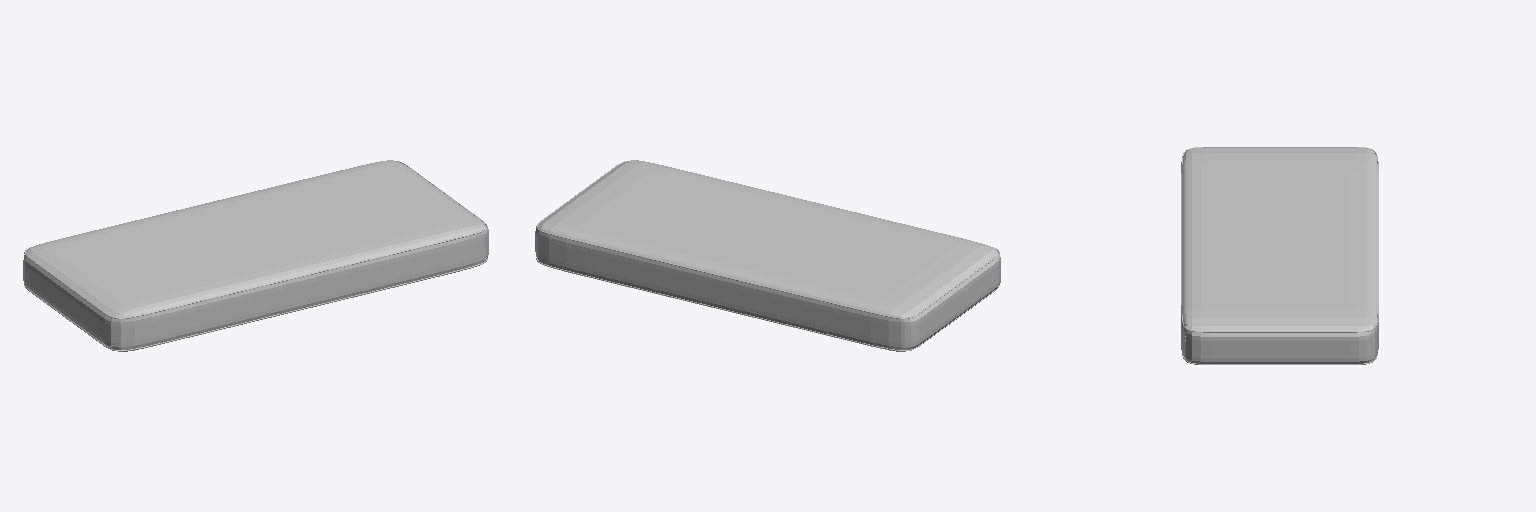
Rendered from mattress.obj.
3 views of the same model, side by side, from view 1: azimuth 30°, elevation 25°; view 2: azimuth 150°, elevation 25°; view 3: azimuth 270°, elevation 25° (orthographic).
Visible parts, largest first — view 1: mattress; view 2: mattress; view 3: mattress.
Part boxes in pixels (x1,y1,x2,y2): mattress: (23, 160, 488, 351); mattress: (535, 160, 1000, 351); mattress: (1181, 147, 1378, 364).
Bounding box in the file's own units: 200 × 21 × 90.